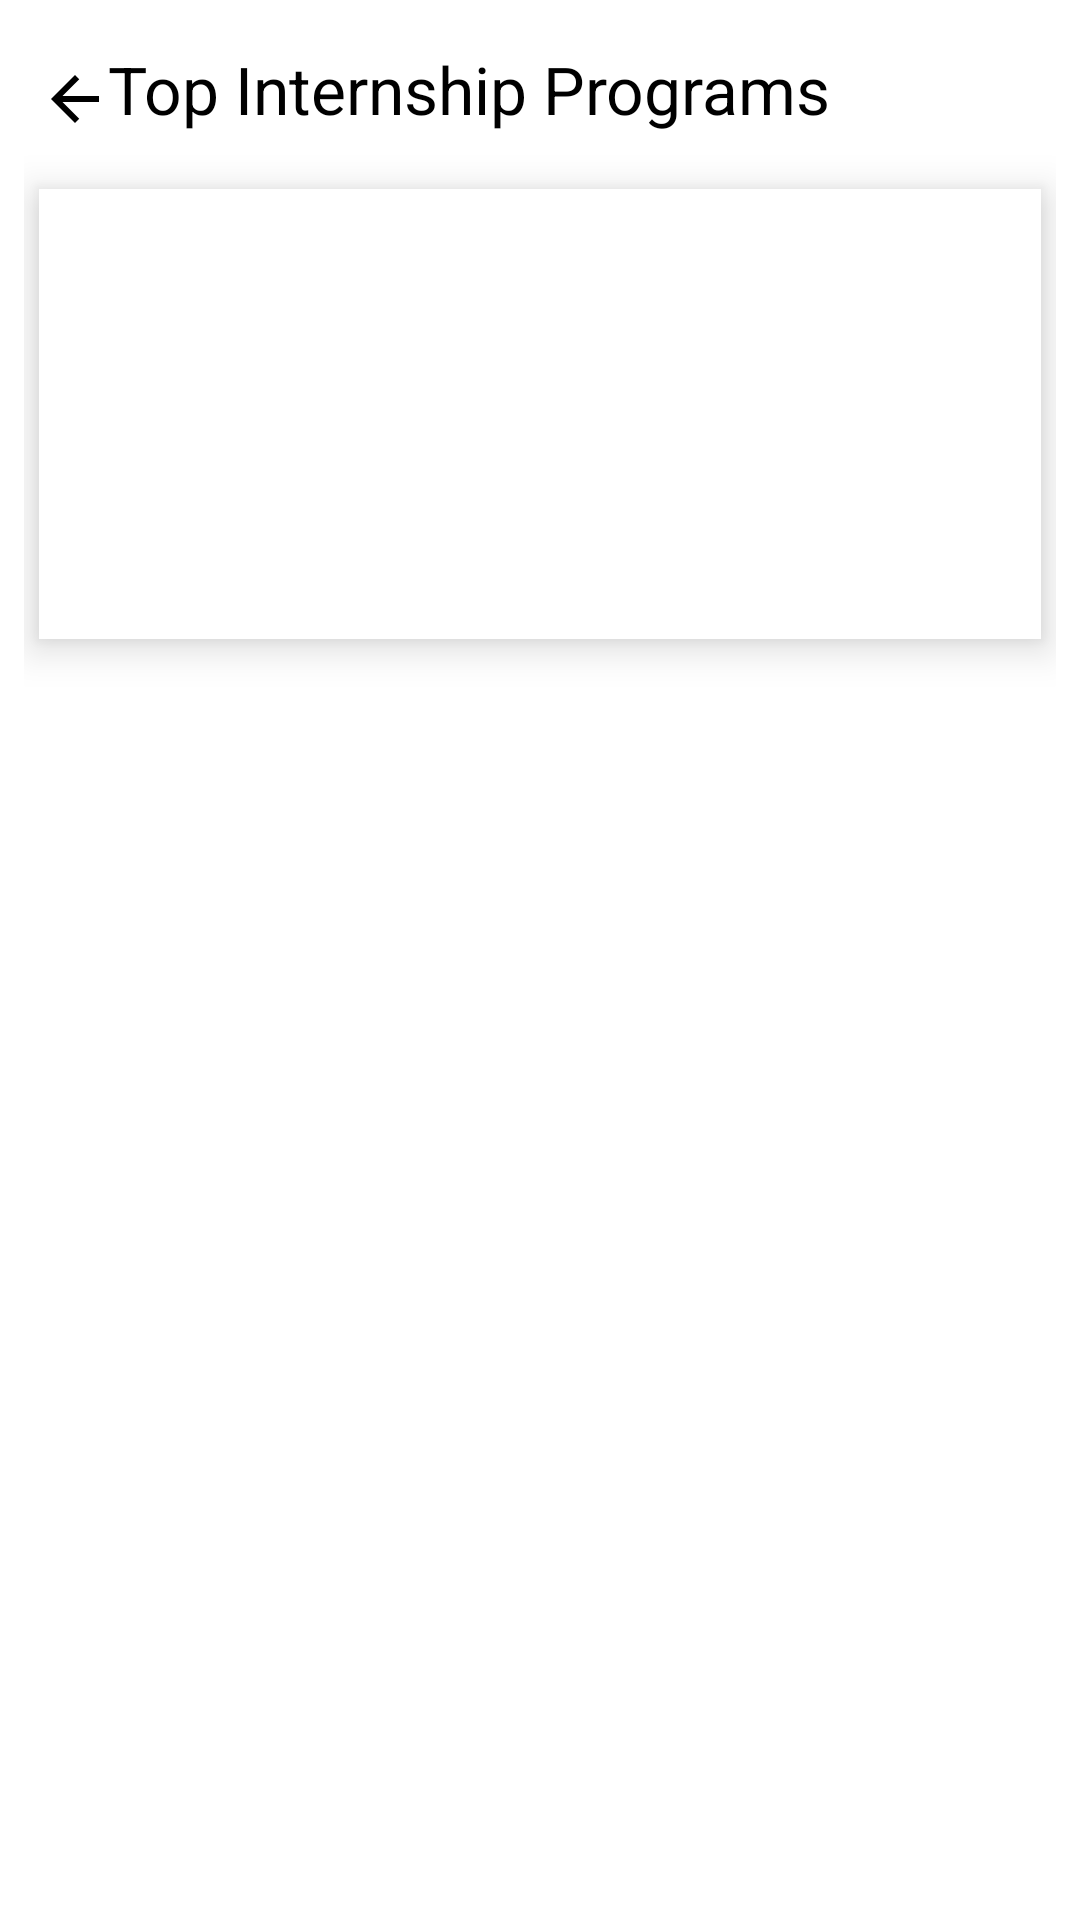

Icons on this 1080 × 1920 Android screen, each with the point to tap as (x=x, y=y):
arrow back: (x=75, y=99)
